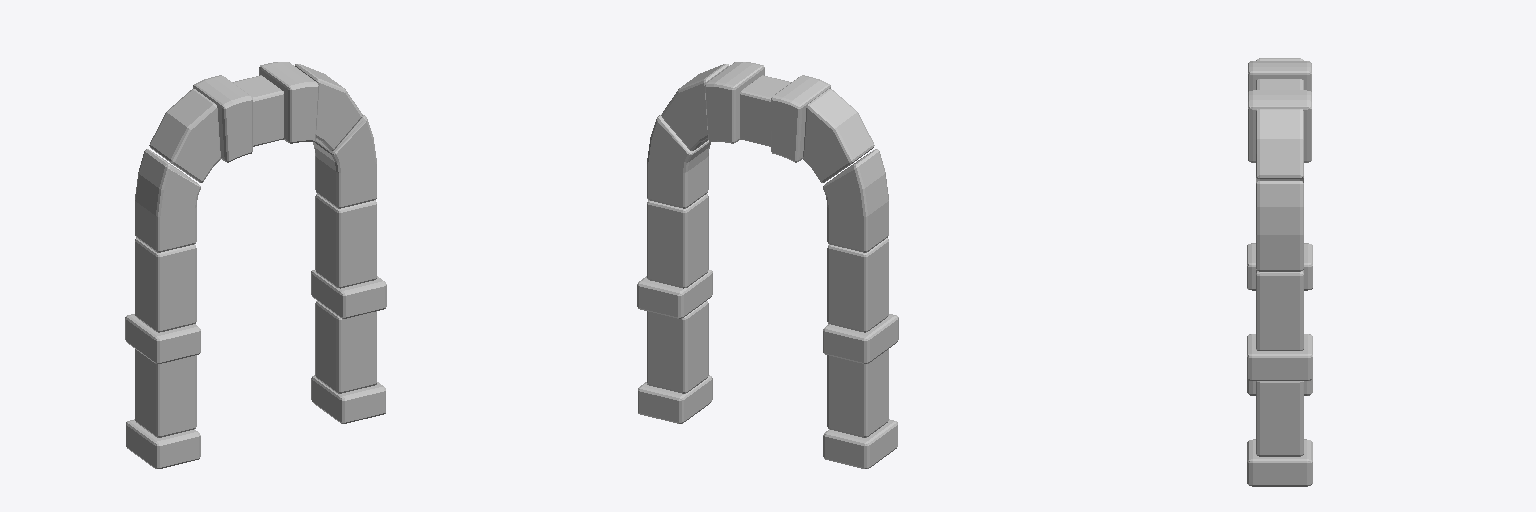
File: door1.obj
3 renders of one model, left to right at view 1: azimuth 30°, elevation 25°; view 2: azimuth 150°, elevation 25°; view 3: azimuth 270°, elevation 25°, orthographic.
Visible parts, largest first — view 1: door1; view 2: door1; view 3: door1.
Part boxes in pixels (bbox=[...]): door1: bbox=[125, 62, 386, 468]; door1: bbox=[637, 62, 898, 468]; door1: bbox=[1247, 58, 1312, 486].
Bounding box in the file's own units: 9.49 × 13.72 × 2.37.